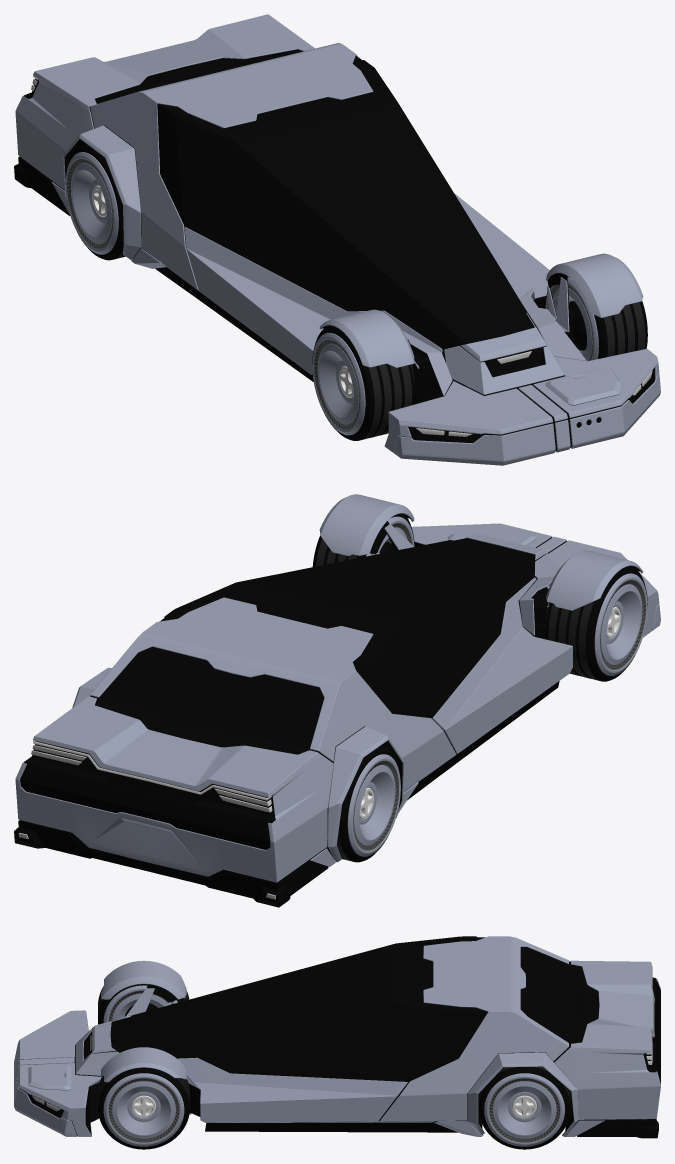
3 views of the same model, one above another, from view 1: azimuth 30°, elevation 25°; view 2: azimuth 150°, elevation 25°; view 3: azimuth 270°, elevation 25° (orthographic). The views are drawn at different scales.
Visible parts, largest first — view 1: sci-fi_car_26.010, sci-fi_car_26.013, sci-fi_car_26.012, sci-fi_car_26.021, sci-fi_car_26.029, sci-fi_car_26.028, sci-fi_car_26.032, sci-fi_car_26.024, Plane.128, Plane.138, Plane.051, sci-fi_car_26.020 (+10 smaller); view 2: sci-fi_car_26.010, sci-fi_car_26.013, sci-fi_car_26.012, sci-fi_car_26.014, sci-fi_car_26.016, sci-fi_car_26.023, sci-fi_car_26.029, sci-fi_car_26.028, sci-fi_car_26.032, sci-fi_car_26.015, Plane.128, Plane.138 (+10 smaller); view 3: sci-fi_car_26.010, sci-fi_car_26.013, sci-fi_car_26.012, sci-fi_car_26.014, Plane.050, Plane.133, sci-fi_car_26.032, sci-fi_car_26.028, sci-fi_car_26.029, Plane.129, Plane.019, sci-fi_car_26.015 (+13 smaller).
Boxes of the visible parts, x1=… form: sci-fi_car_26.010: x1=15, y1=14, x2=659, y2=452; sci-fi_car_26.013: x1=164, y1=60, x2=526, y2=334; sci-fi_car_26.012: x1=19, y1=49, x2=655, y2=451; sci-fi_car_26.021: x1=394, y1=374, x2=660, y2=465; sci-fi_car_26.029: x1=546, y1=253, x2=643, y2=332; sci-fi_car_26.028: x1=63, y1=88, x2=388, y2=259; sci-fi_car_26.032: x1=319, y1=309, x2=419, y2=368; sci-fi_car_26.024: x1=403, y1=288, x2=586, y2=395; Plane.128: x1=317, y1=343, x2=359, y2=424; Plane.138: x1=70, y1=163, x2=112, y2=243; Plane.051: x1=312, y1=326, x2=414, y2=440; sci-fi_car_26.020: x1=545, y1=367, x2=622, y2=405; sci-fi_car_26.010: x1=15, y1=523, x2=659, y2=882; sci-fi_car_26.013: x1=164, y1=540, x2=526, y2=702; sci-fi_car_26.012: x1=19, y1=537, x2=566, y2=903; sci-fi_car_26.014: x1=101, y1=648, x2=322, y2=748; sci-fi_car_26.016: x1=21, y1=764, x2=269, y2=848; sci-fi_car_26.023: x1=14, y1=821, x2=328, y2=907; sci-fi_car_26.029: x1=319, y1=494, x2=414, y2=556; sci-fi_car_26.028: x1=72, y1=667, x2=404, y2=862; sci-fi_car_26.032: x1=546, y1=550, x2=643, y2=610; sci-fi_car_26.015: x1=97, y1=699, x2=306, y2=753; Plane.128: x1=601, y1=584, x2=642, y2=665; Plane.138: x1=354, y1=765, x2=395, y2=845; sci-fi_car_26.010: x1=14, y1=936, x2=660, y2=1136; sci-fi_car_26.013: x1=122, y1=936, x2=477, y2=1068; sci-fi_car_26.012: x1=19, y1=937, x2=656, y2=1135; sci-fi_car_26.014: x1=521, y1=947, x2=568, y2=1042; Plane.050: x1=112, y1=1081, x2=175, y2=1138; Plane.133: x1=492, y1=1081, x2=556, y2=1138; sci-fi_car_26.032: x1=101, y1=960, x2=186, y2=1016; sci-fi_car_26.028: x1=467, y1=1052, x2=578, y2=1136; sci-fi_car_26.029: x1=101, y1=1047, x2=186, y2=1082; Plane.129: x1=479, y1=1067, x2=570, y2=1149; Plane.019: x1=98, y1=1068, x2=189, y2=1149; sci-fi_car_26.015: x1=571, y1=965, x2=597, y2=1043.
Size of the model in its own units: 2.22 by 1.19 by 5.61.
